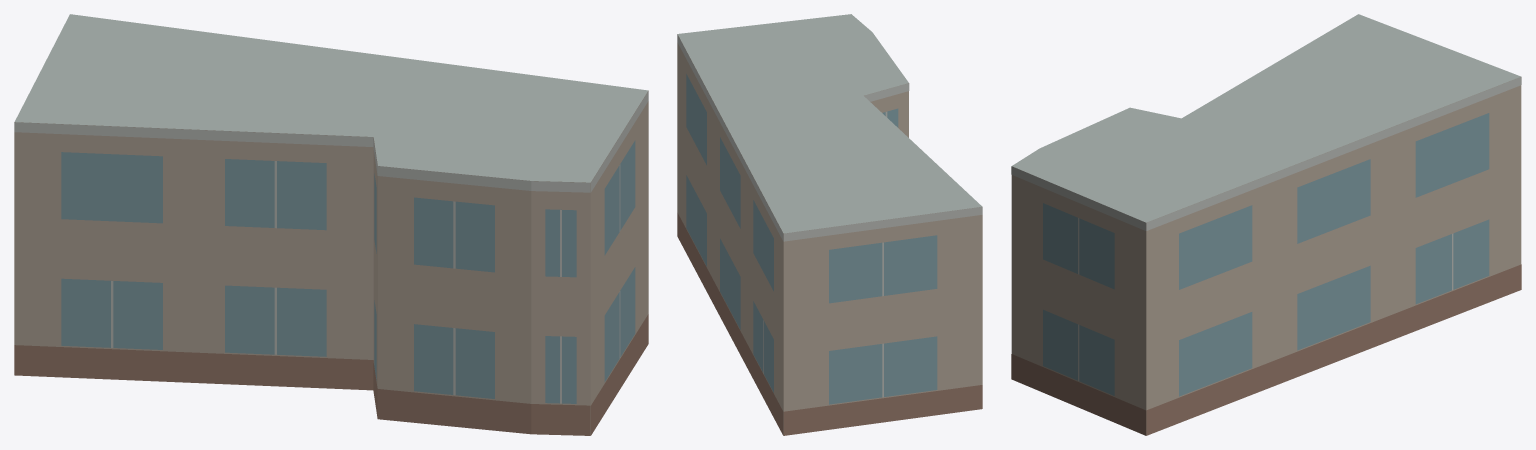
Rendered from survey-upis-32470661.glb.
3 views of the same model, side by side, from view 1: azimuth 30°, elevation 25°; view 2: azimuth 150°, elevation 25°; view 3: azimuth 270°, elevation 25° (orthographic). The views are drawn at different scales.
Visible parts, largest first — view 1: survey-upis-32470661.tmp; view 2: survey-upis-32470661.tmp; view 3: survey-upis-32470661.tmp.
Part boxes in pixels (<box>): survey-upis-32470661.tmp: <box>14,14,648,435</box>; survey-upis-32470661.tmp: <box>677,14,982,435</box>; survey-upis-32470661.tmp: <box>1011,14,1521,435</box>.
Bounding box in the file's own units: 12.81 × 6.1 × 13.23.
